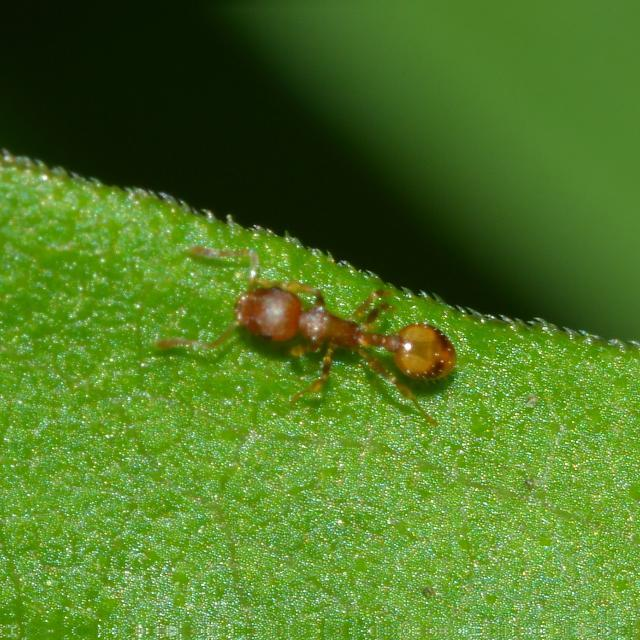Temnothorax: (197, 250, 478, 420)
